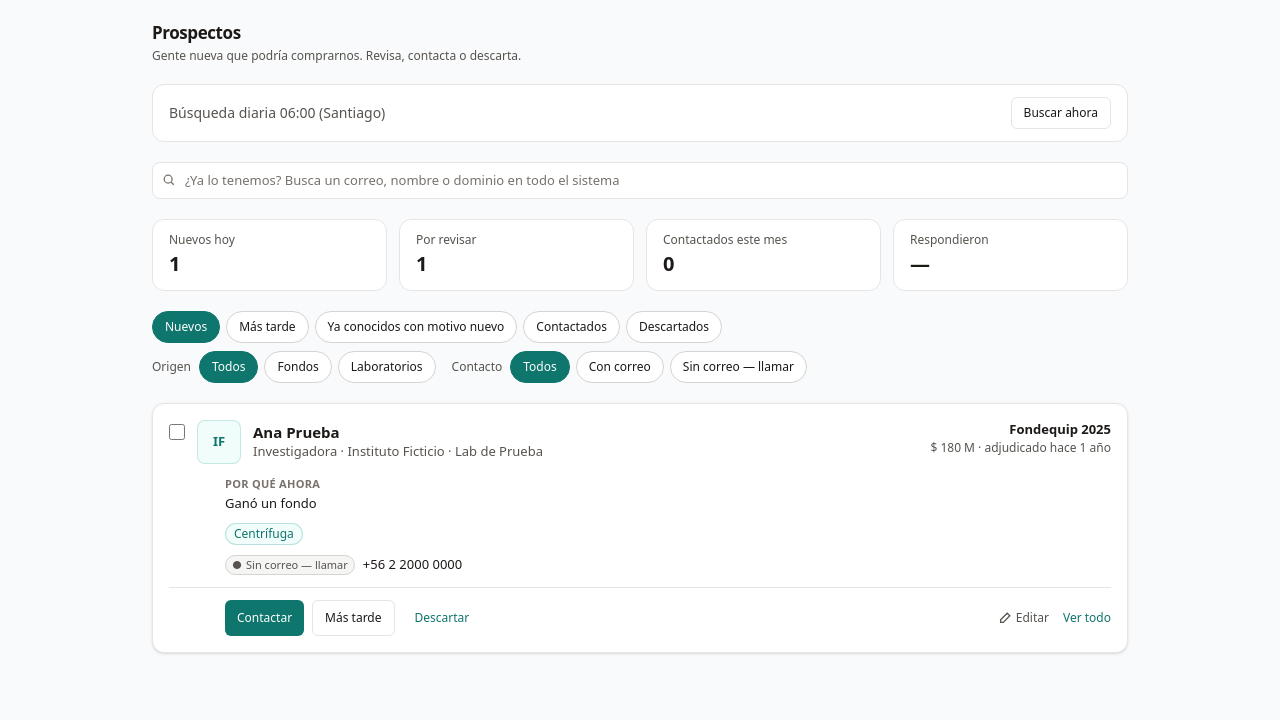
Test: Editar prospecto › adds a found correo with where it came from, after checking whether we already have it
Click the button with aria-label "Editar a Ana Prueba" at coordinates (1023, 618), box [992,606,1055,630]
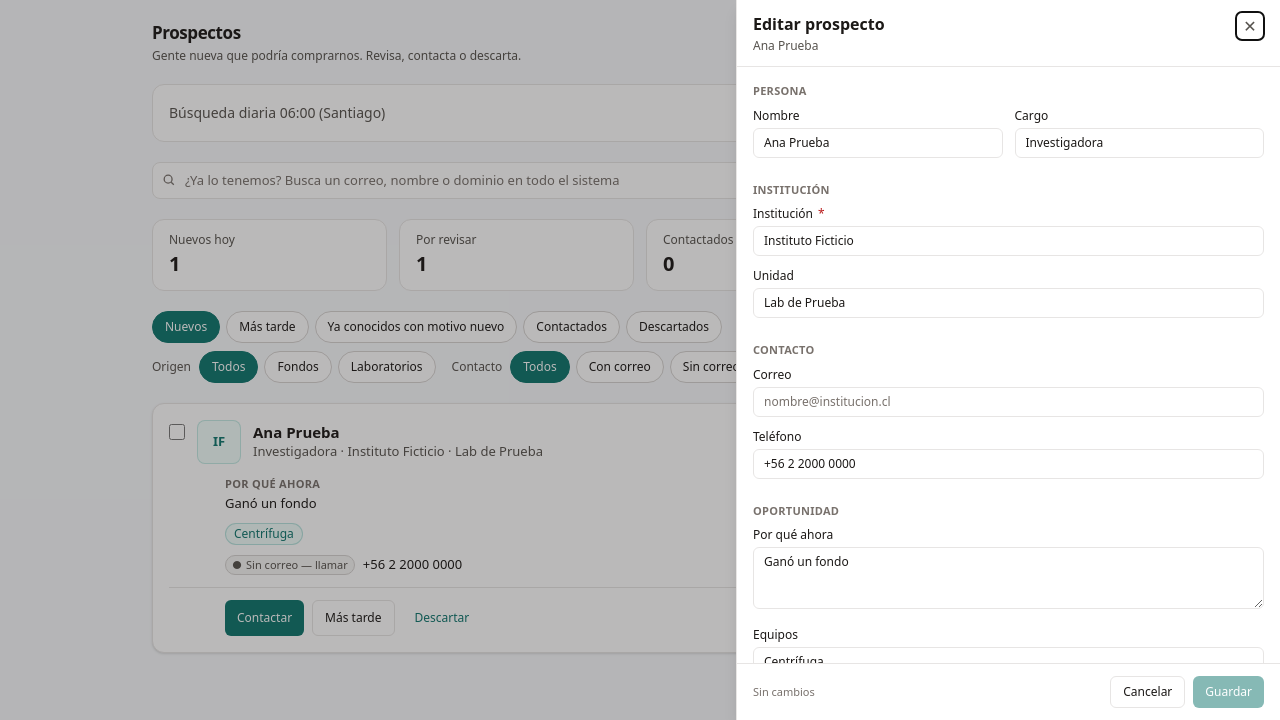
Type "ana@nueva.example.test" into the field labelled "Correo" at coordinates (1008, 402), box [753,386,1264,416]
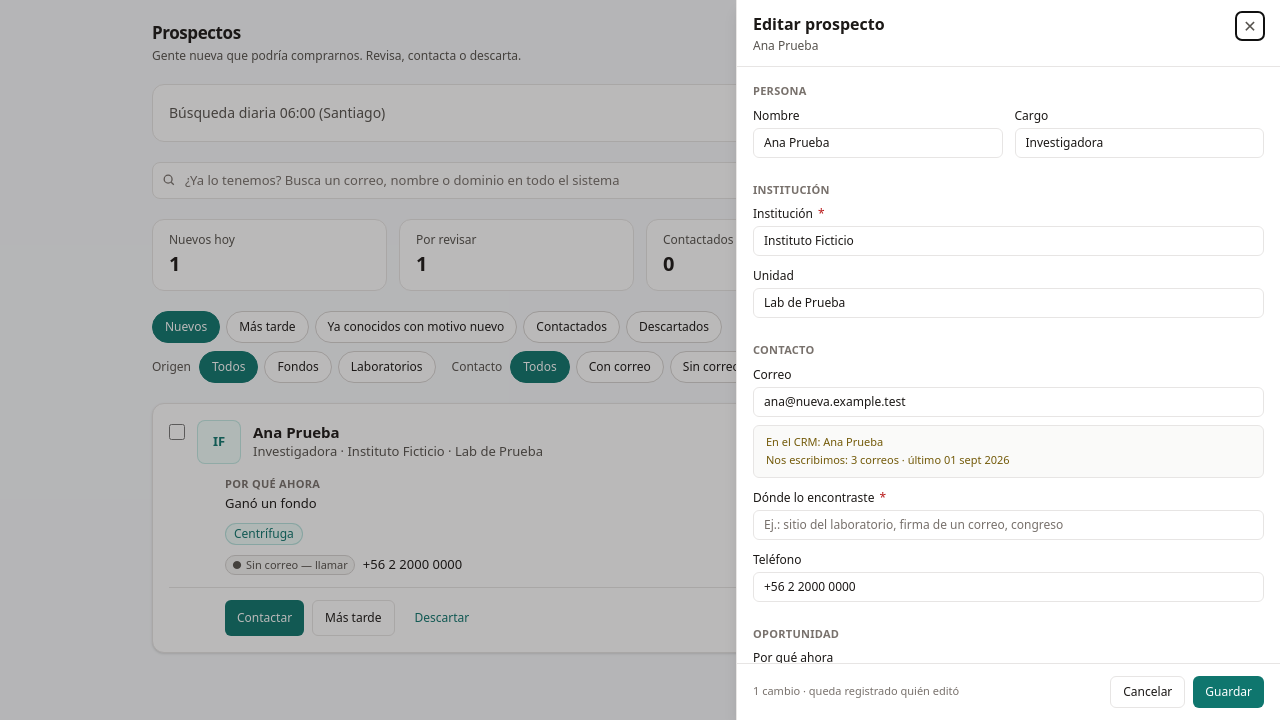
Result: the text "En el CRM: Ana Prueba" is shown at [766,434,883,448]
Result: the text "Nos escribimos: 3 correos · último 01 sept 2026" is shown at [766,452,1010,467]
Click the button "Guardar" at coordinates (1229, 692), box [1193,676,1264,708]
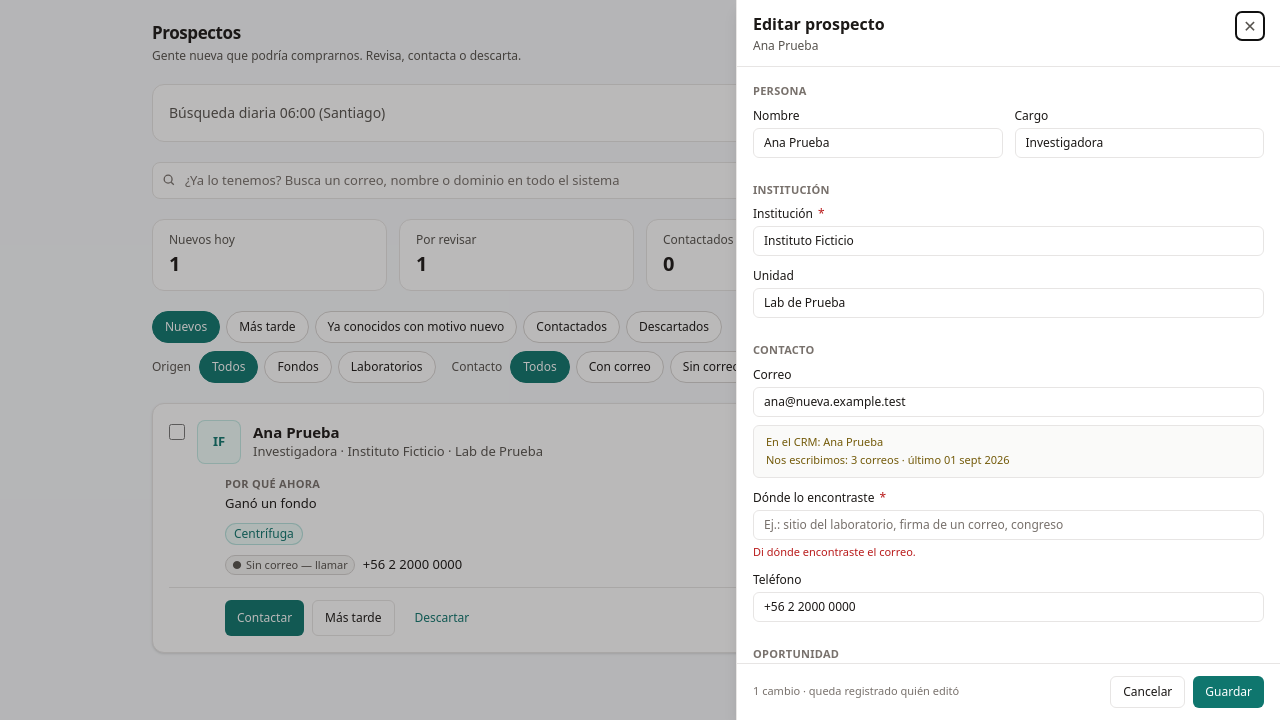
Result: the text "Di dónde encontraste el correo." is shown at [753,544,916,558]
Type "sitio del laboratorio" into the field labelled "Dónde lo encontraste *" at coordinates (1008, 524), box [753,510,1264,540]
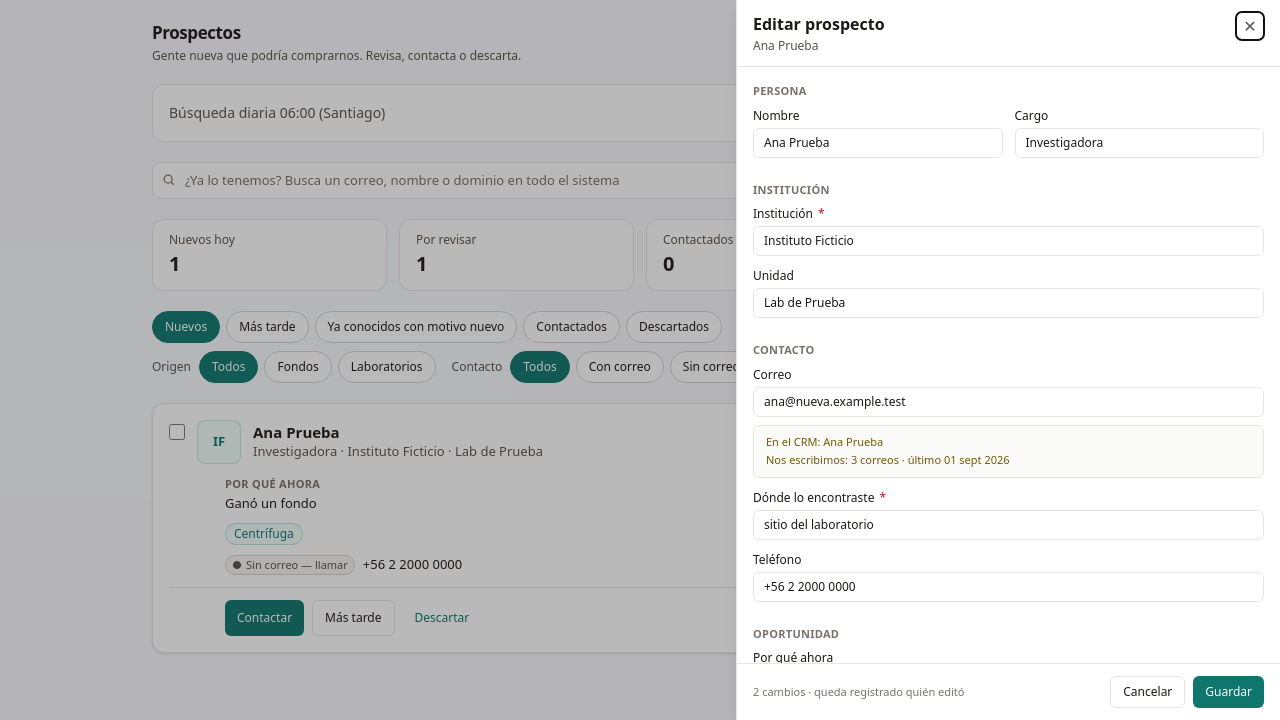
Click the button "Guardar" at coordinates (1229, 692), box [1193,676,1264,708]
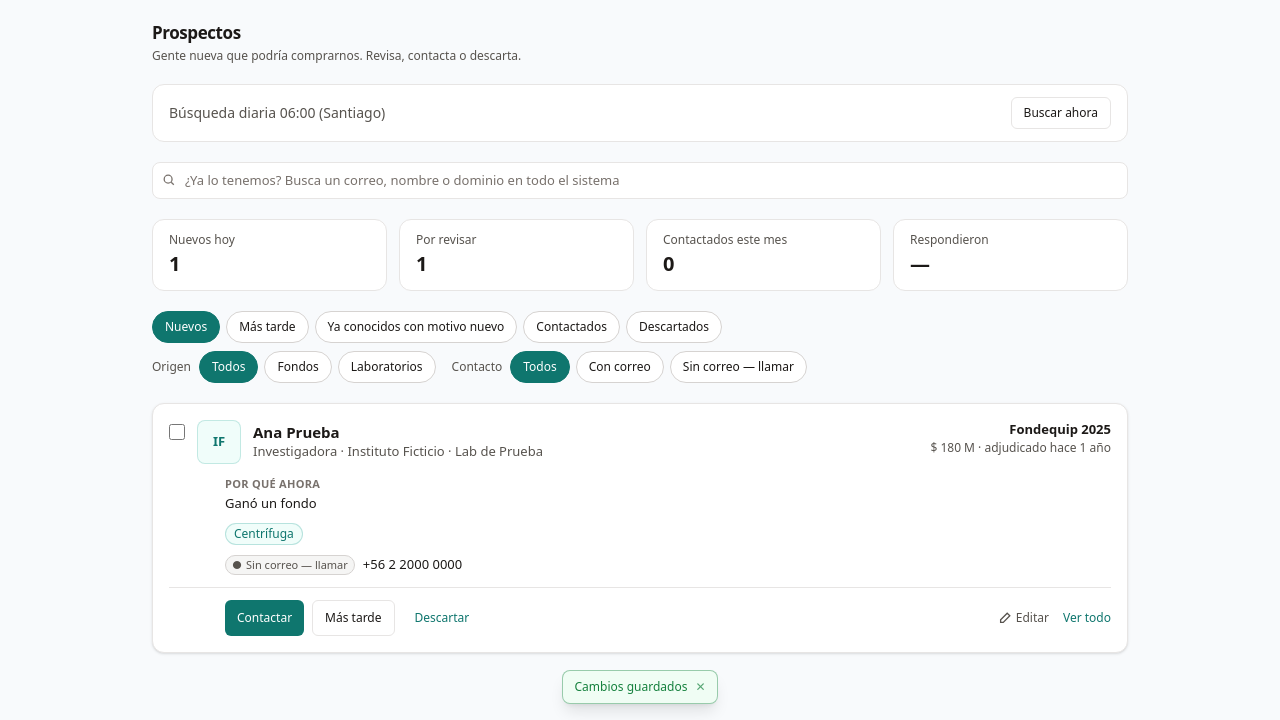
Result: the dialog is gone
